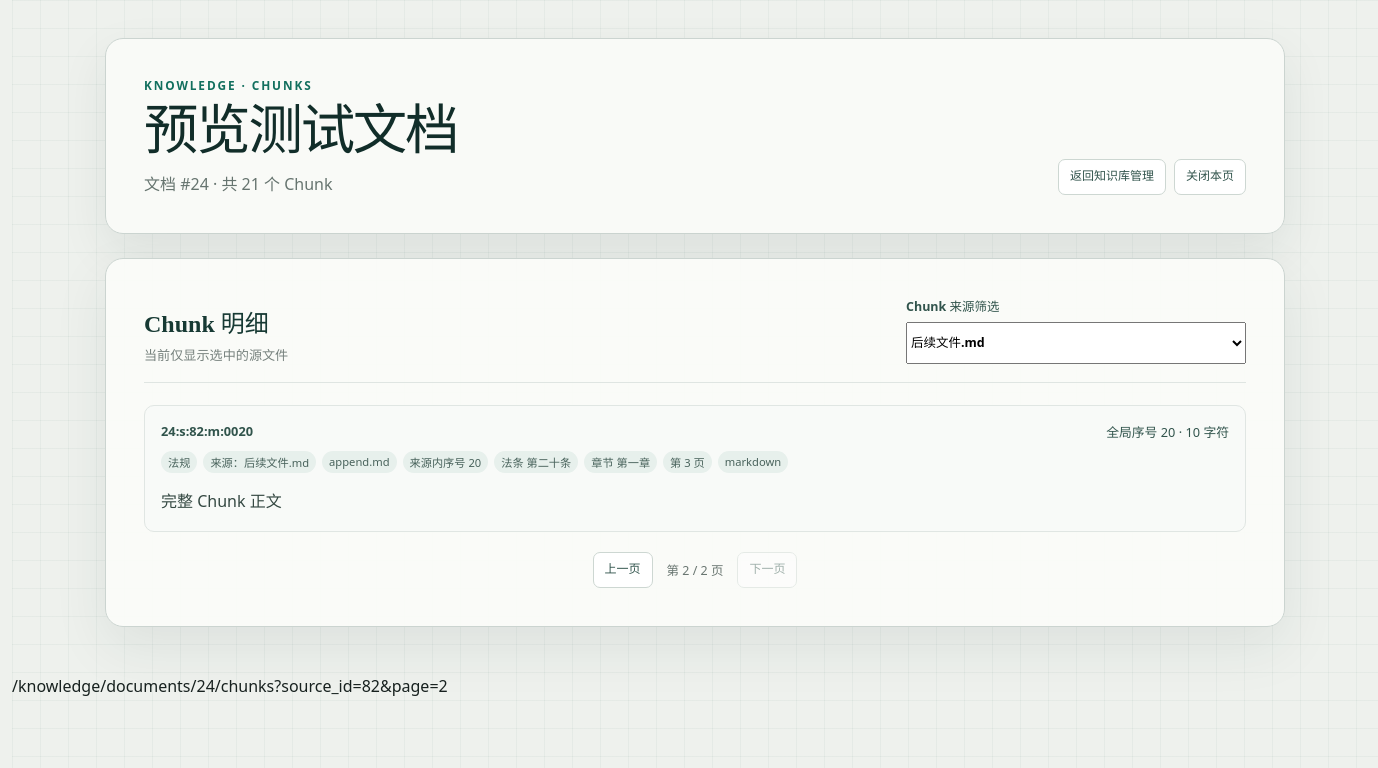
Test: knowledge preview pages › restores Chunk source and page from the URL and paginates with page_size 20
Expected: the text "24:s:82:m:0020" is shown, left=161, top=422, right=253, bottom=441
Expected: the text "来源内序号 20" is shown, left=402, top=451, right=488, bottom=473
Click the button "上一页": (623, 570) left=593, top=552, right=653, bottom=588
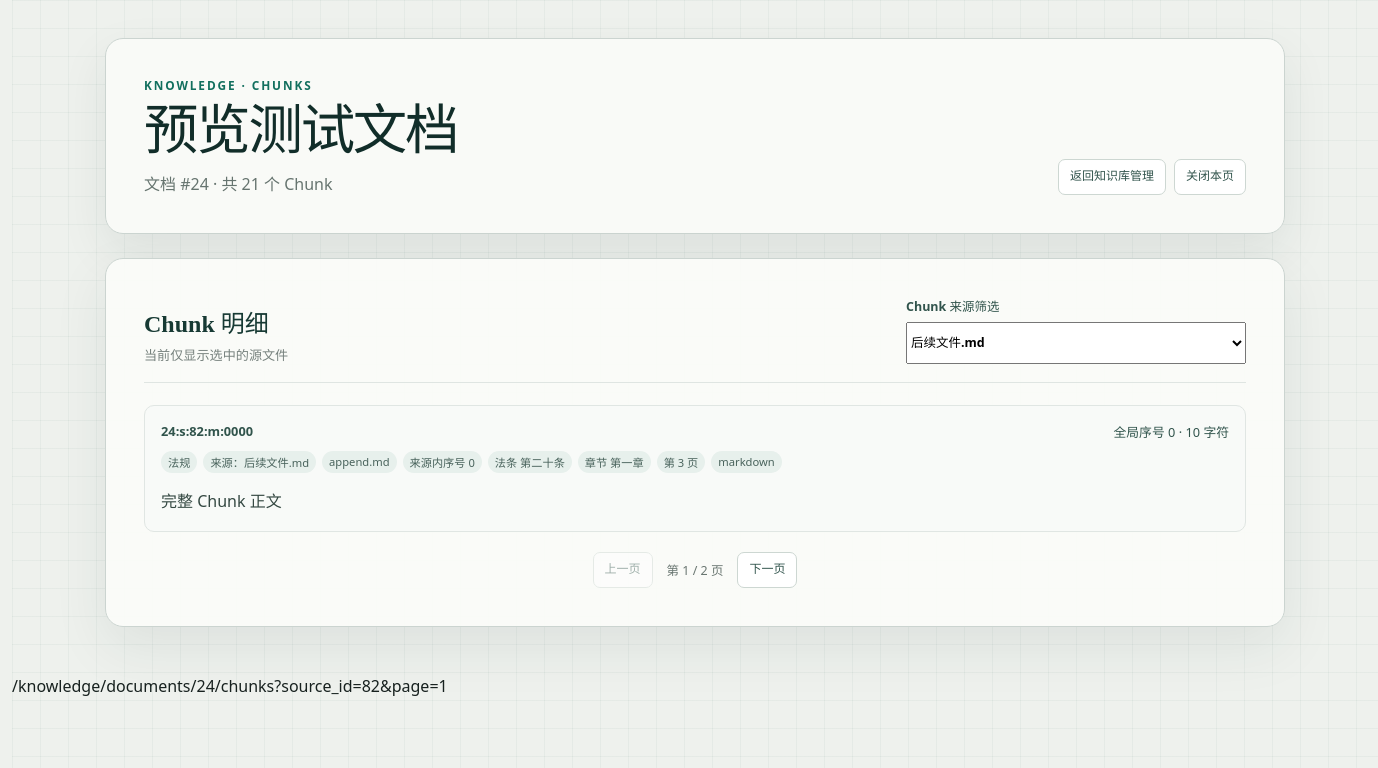
Now the text "24:s:82:m:0000" is shown, box left=161, top=422, right=253, bottom=441
Now the text named "当前预览地址" shows "source_id=82&page=1", box left=274, top=675, right=448, bottom=697
